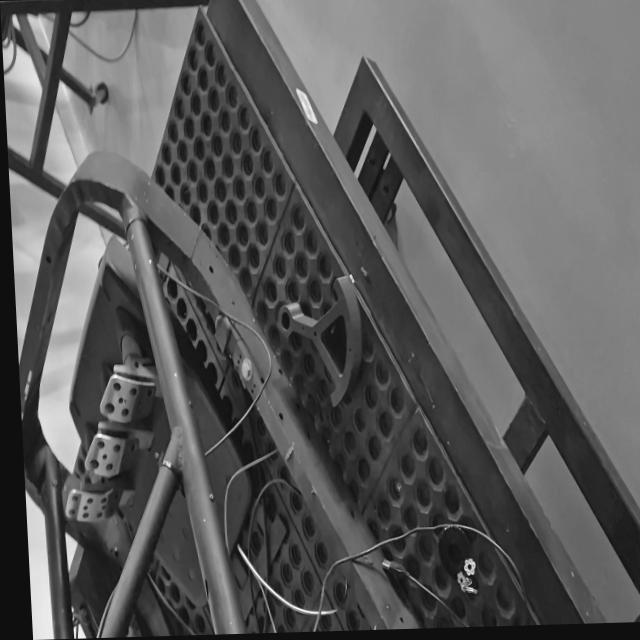haptic: (276, 272, 367, 409)
